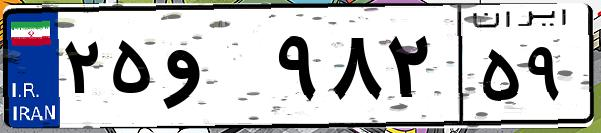2: (385, 28, 445, 110), (57, 26, 110, 100)
5: (475, 38, 525, 113), (110, 28, 158, 98)
8: (330, 28, 385, 110)
9: (270, 28, 330, 110), (525, 38, 570, 115)
و: (158, 20, 270, 120)
